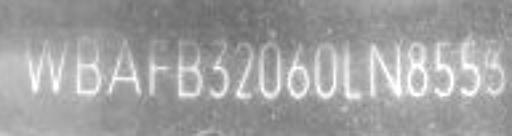letter: (21, 34, 71, 96), (365, 38, 405, 106), (106, 35, 146, 101), (173, 35, 207, 101), (72, 32, 104, 98), (309, 37, 341, 103), (144, 34, 176, 98), (202, 37, 232, 103), (339, 32, 365, 104), (429, 32, 455, 104), (405, 34, 431, 106), (459, 32, 485, 100), (480, 32, 506, 100), (285, 38, 311, 106), (256, 37, 282, 103), (232, 37, 256, 103)
